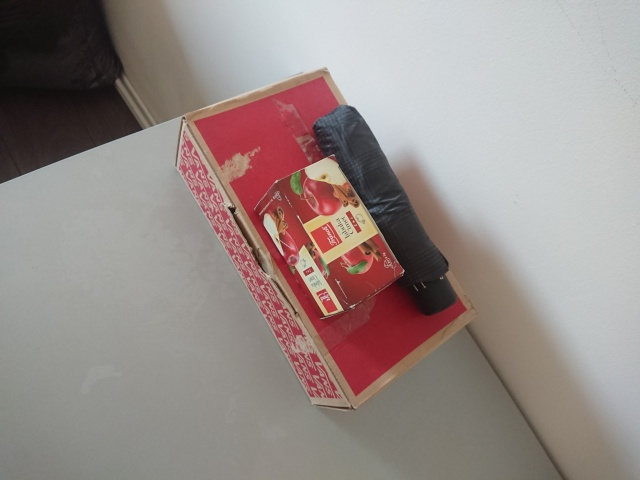Franck Apple Cinnamon Tea 60g: (251, 152, 405, 321)
